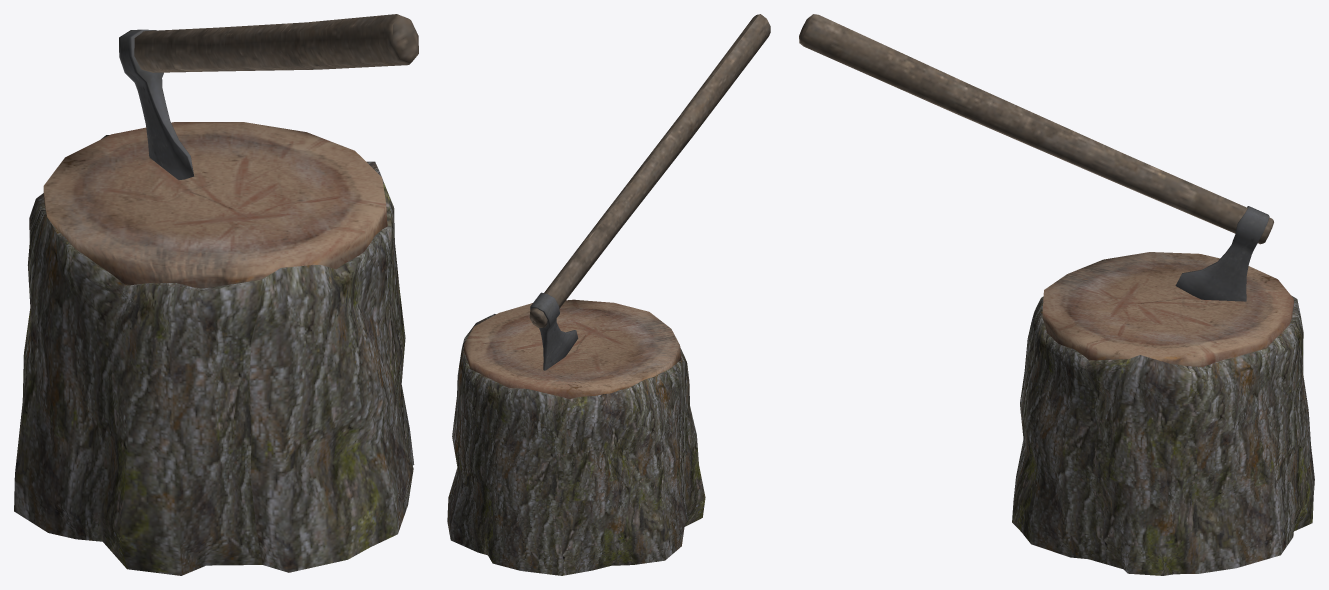
The model's file is chopping_block.glb.
3 renders of one model, left to right at view 1: azimuth 30°, elevation 25°; view 2: azimuth 150°, elevation 25°; view 3: azimuth 270°, elevation 25°, orthographic. The views are drawn at different scales.
Visible parts, largest first — view 1: chopping log_Log_0; view 2: chopping log_Log_0; view 3: chopping log_Log_0.
Part boxes in pixels (x1,y1,x2,y2): chopping log_Log_0: (14, 14, 418, 575); chopping log_Log_0: (447, 14, 770, 575); chopping log_Log_0: (799, 14, 1314, 575).
Bounding box in the file's own units: 0.583 × 1.05 × 1.02.
Materials: 2 (2 with a texture image).
